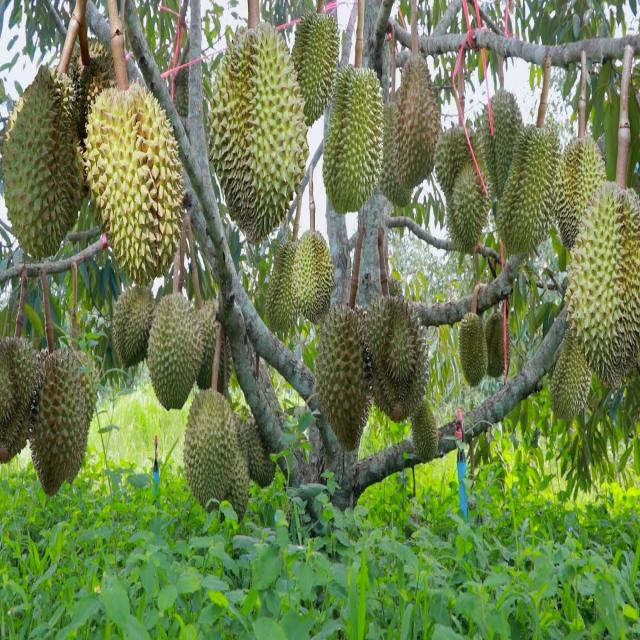immature: (211, 25, 314, 249), (81, 78, 182, 286), (563, 183, 640, 397), (324, 62, 387, 216), (381, 51, 442, 208), (496, 124, 561, 260), (316, 300, 374, 451), (362, 293, 428, 424), (182, 385, 240, 506), (146, 292, 203, 411), (554, 138, 608, 252), (288, 8, 339, 126), (445, 159, 490, 255), (550, 326, 592, 424), (295, 229, 337, 324), (112, 284, 157, 370), (266, 234, 304, 335), (459, 312, 490, 388)
